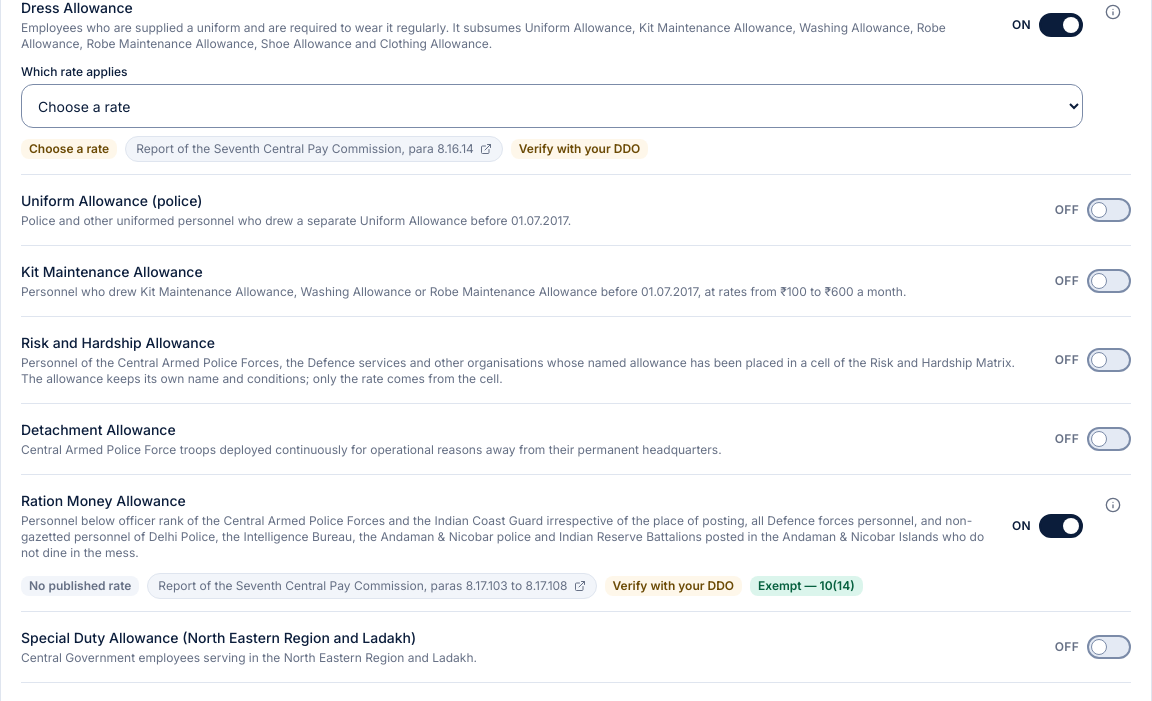
AllowanceList › asks for a rate rather than showing a confident zero
The width and height of the screenshot is (1152, 701).
(page scrolled)
Step 1. Click the switch named "Risk and Hardship Allowance" in the row of "Risk and Hardship Allowance" → (1109, 360), box [1087,348,1131,372]
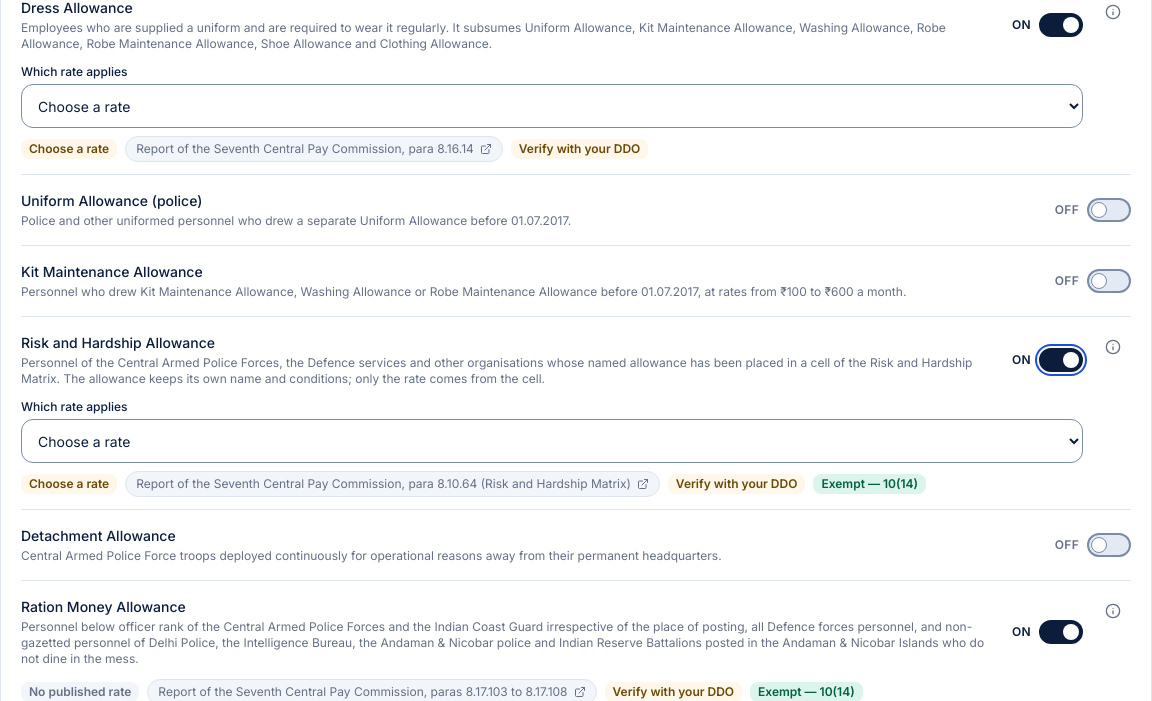
Step 2. Select "Cell R1H3 (high risk, low hardship), Pay Matrix Level 8 and below" in the dropdown labelled "Which rate applies" below "Risk and Hardship Allowance" → (552, 441), box [21,419,1083,463]
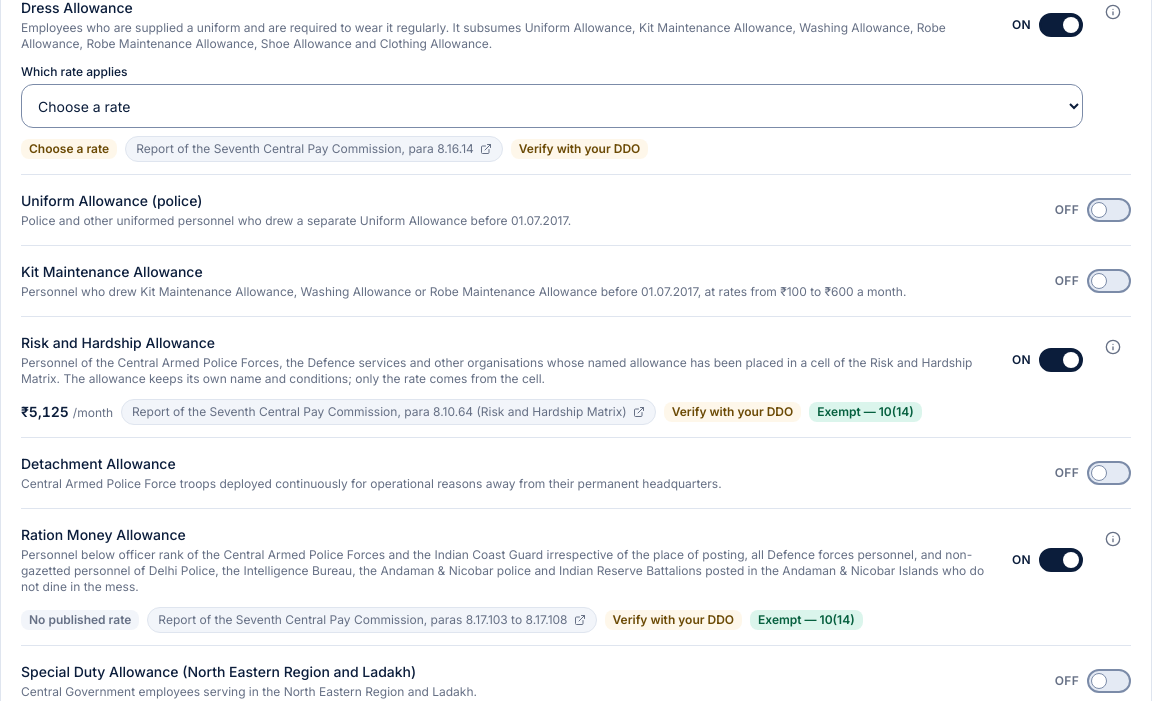
Now the text "₹5,125" is shown, box [21,403,69,420]
